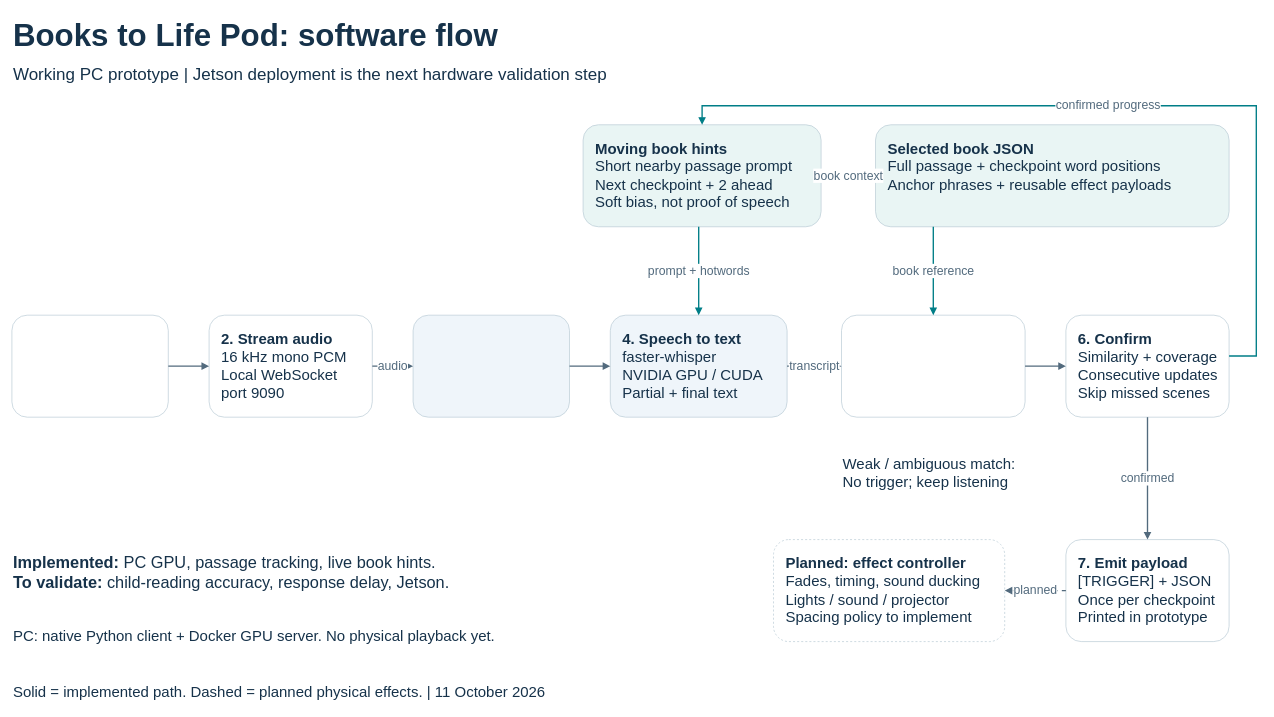
This 1274x717 diagram has some shape labels left out. The shapes that lost their labels are listed below. From the top down, each one's centre as x and y in pixels, then its label:
At [89,365]: "1. Audio input Mic or recording Child or parent".
At [491,365]: "3. Detect speech VAD filters silence Read continuously across checkpoints".
At [933,365]: "5. Align words Recent transcript vs full book passage Word-order matching".
